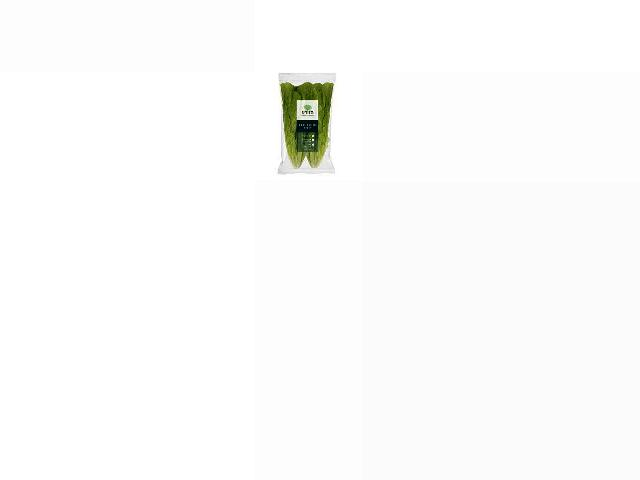lettuce: (273, 79, 333, 169)
